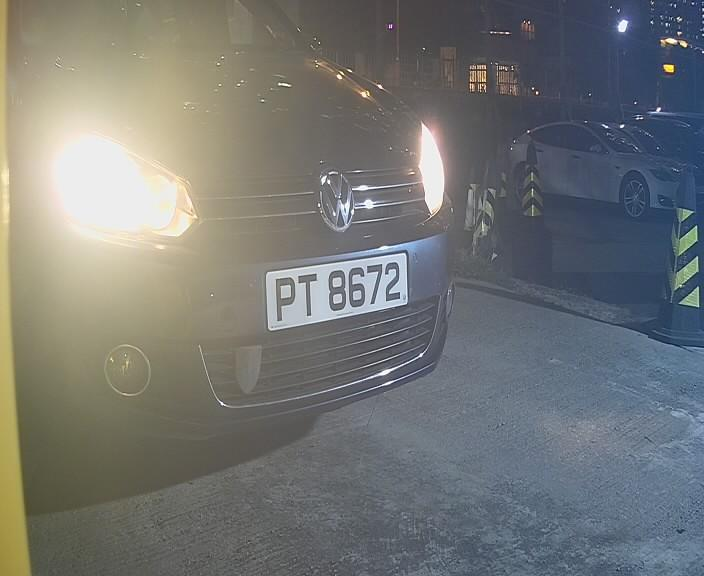Car: (26, 19, 544, 453)
License Plate: (255, 242, 415, 337)
